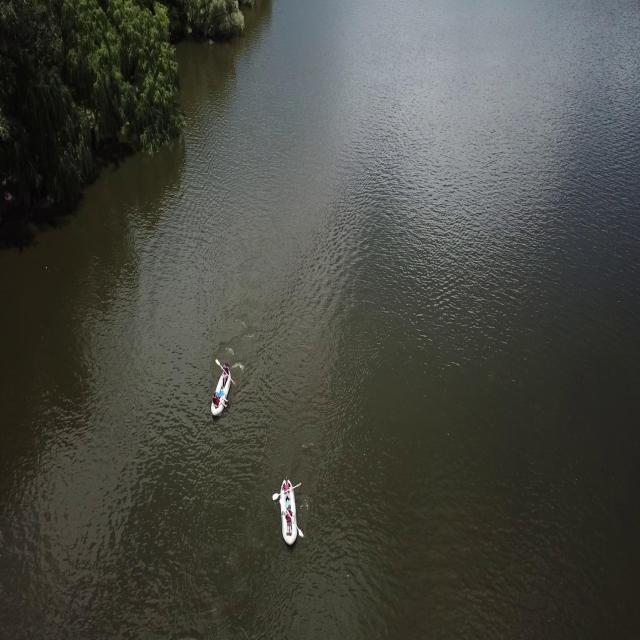kayak: (272, 476, 306, 551), (209, 362, 238, 419)
